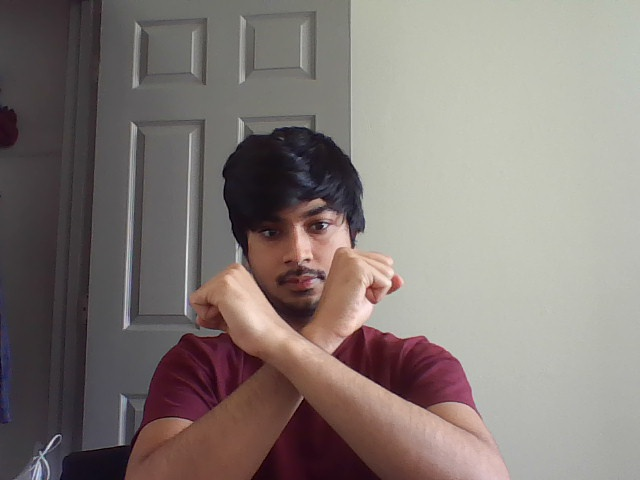cancel: (185, 247, 414, 460)
